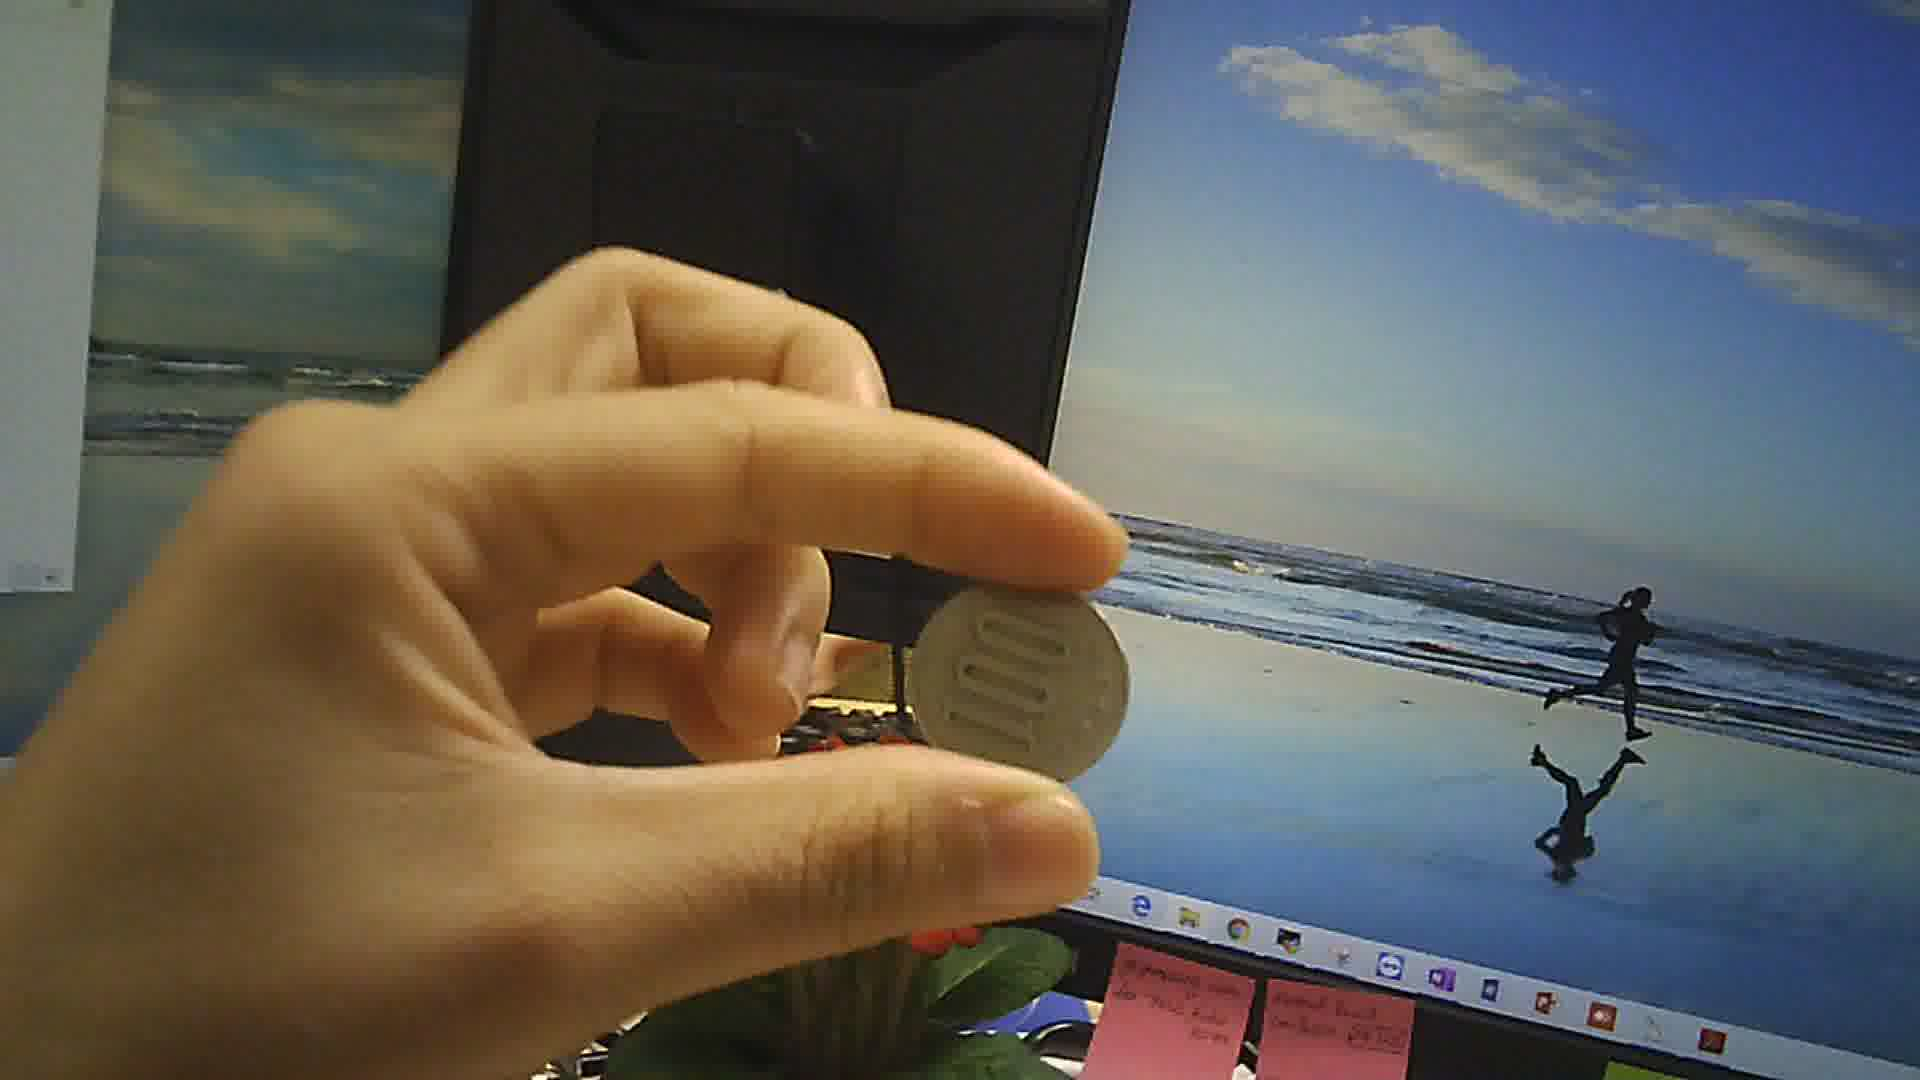100 Yen: (906, 567, 1138, 785)
